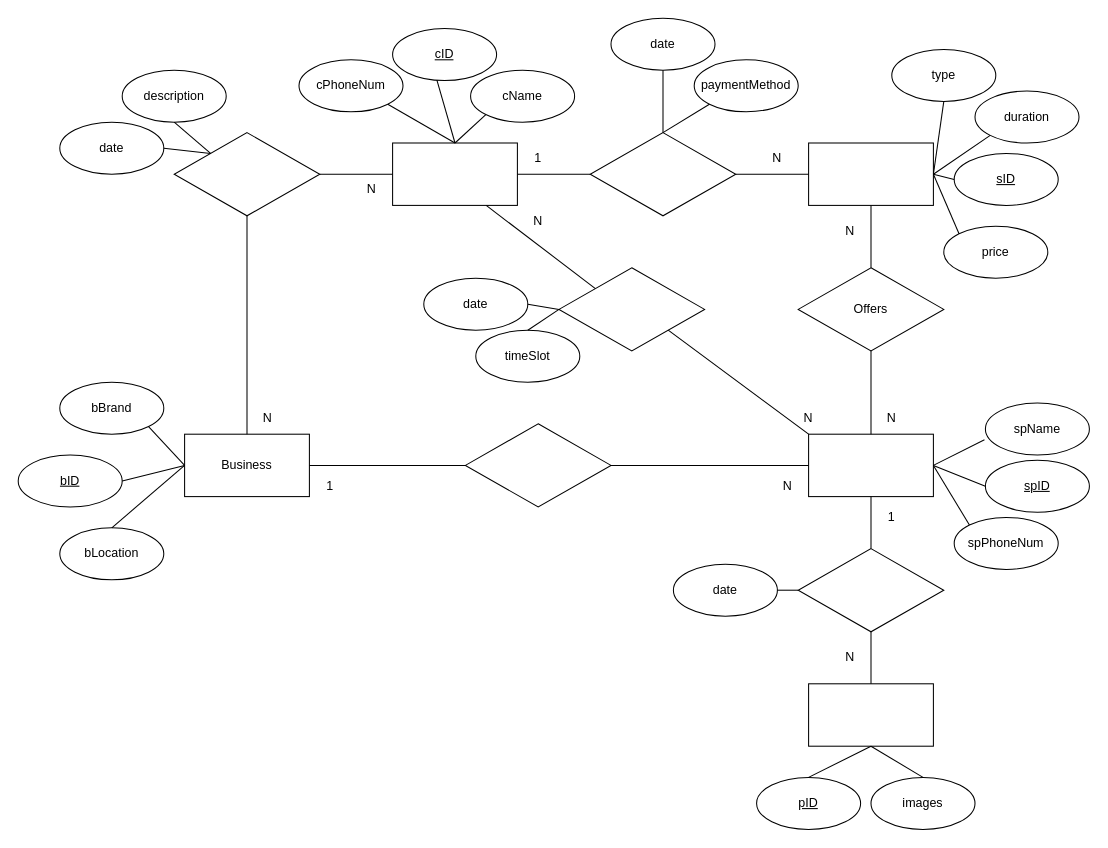
Image size: 1108x848. Some labels were removed from this diagram. Each missing label, with the centre of its shape:
Appointment: the point at 631,309
Builds: the point at 870,590
Client: the point at 454,173
Manages: the point at 537,465
Pays: the point at 662,174
Portfolio: the point at 870,714
Reviews: the point at 246,174
ServiceProvider: the point at 870,465
Services: the point at 870,173
